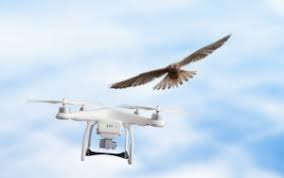Bird: (102, 32, 232, 94)
Drone: (22, 95, 166, 168)
